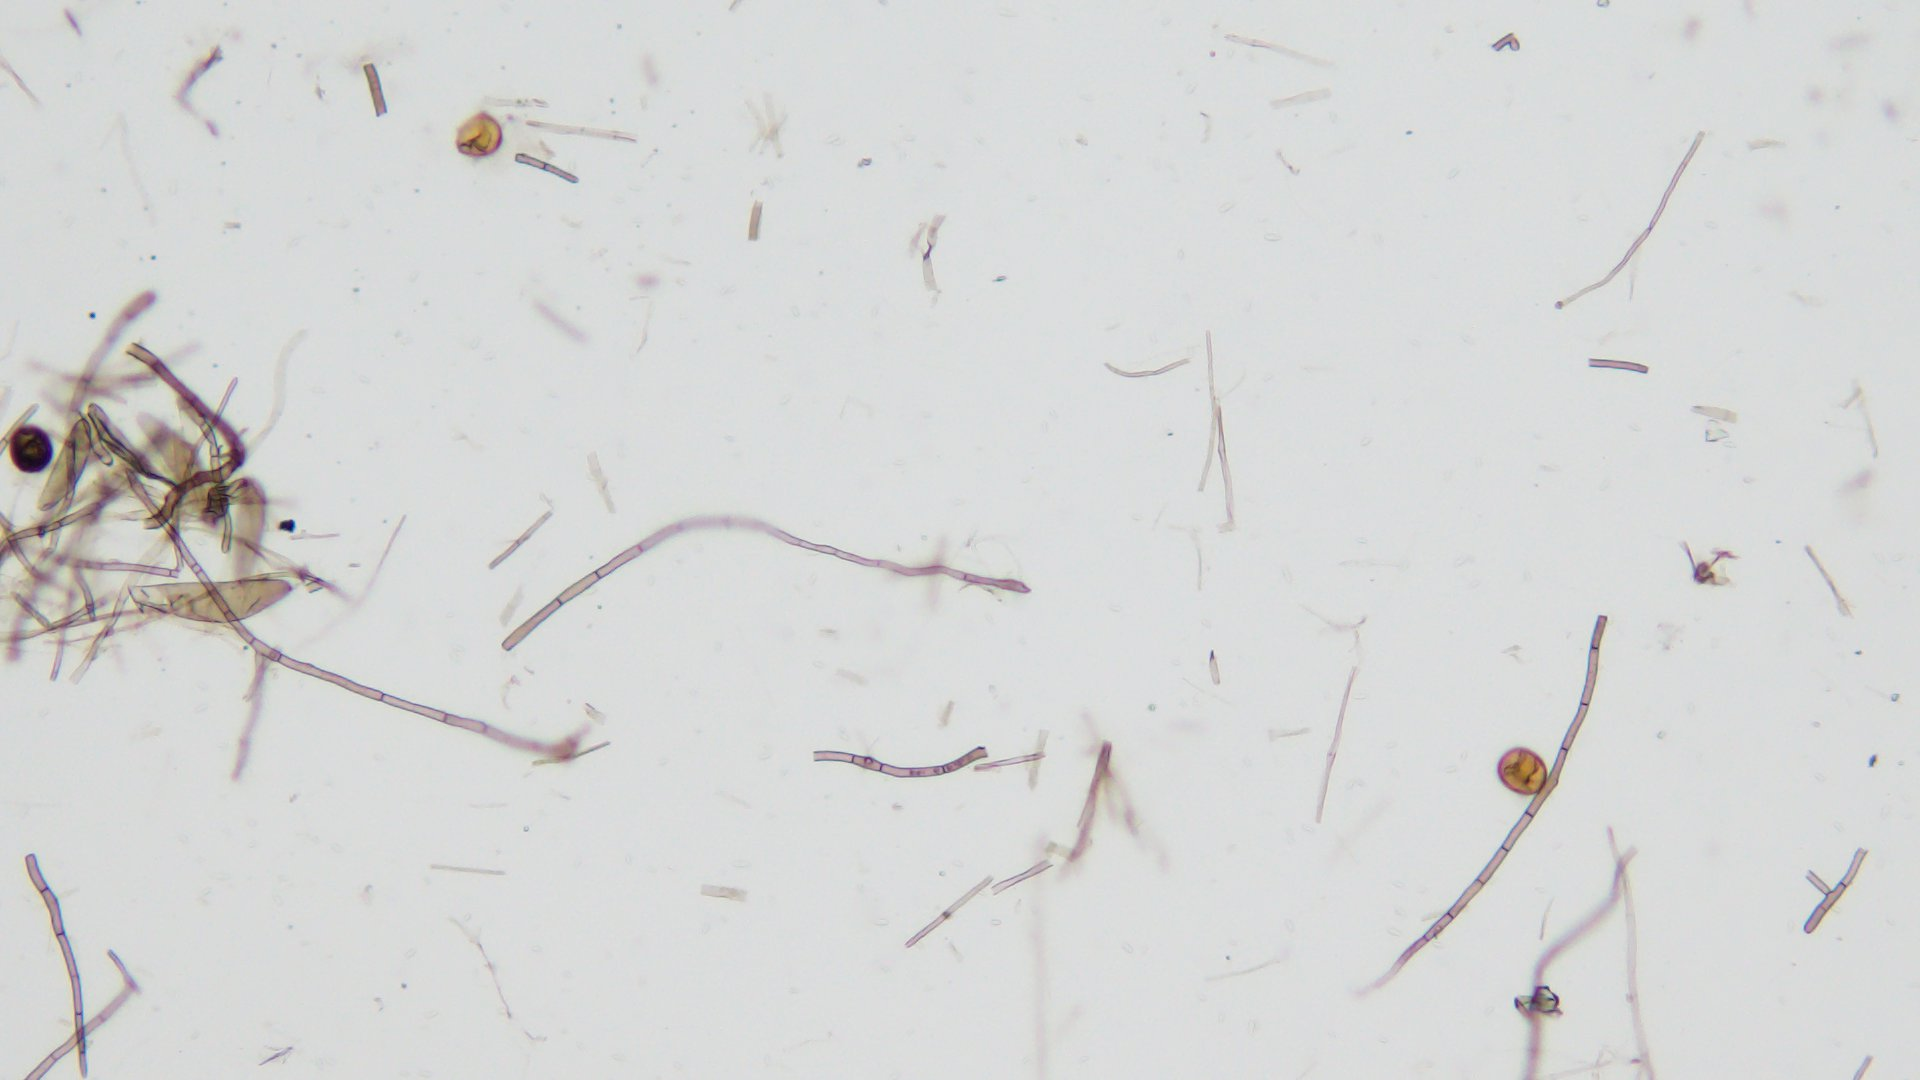dbb_spore: (135, 578, 290, 628), (41, 422, 92, 512)
xb_spore: (451, 113, 509, 161), (1495, 748, 1552, 795), (11, 429, 51, 472)
